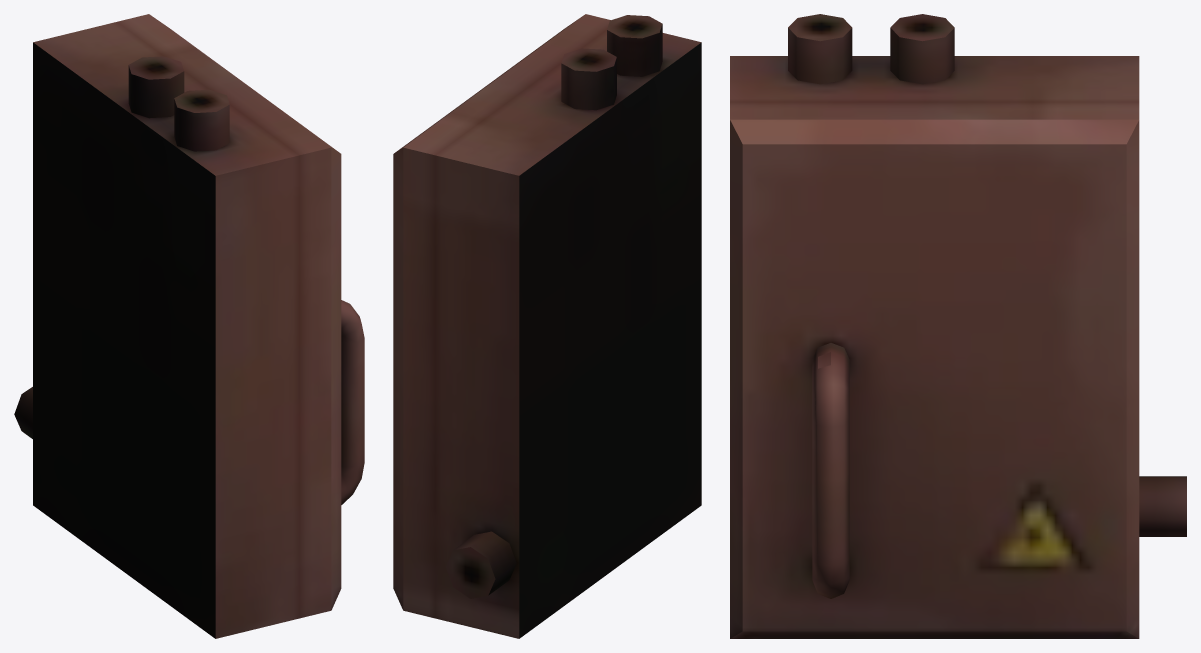
The picture shows the model from 3 angles, left to right: view 1: azimuth 30°, elevation 25°; view 2: azimuth 150°, elevation 25°; view 3: azimuth 270°, elevation 25°; orthographic projection. The views are drawn at different scales.
Parts seen in each view (by area): view 1: body0_model0_lod0_mesh0; view 2: body0_model0_lod0_mesh0; view 3: body0_model0_lod0_mesh0.
Part boxes in pixels (<box>): body0_model0_lod0_mesh0: <box>14,14,364,638</box>; body0_model0_lod0_mesh0: <box>393,14,701,638</box>; body0_model0_lod0_mesh0: <box>730,14,1186,638</box>.
Size of the model in its own units: 24.37 by 60.66 by 44.65.
1 material, 1 textured.
